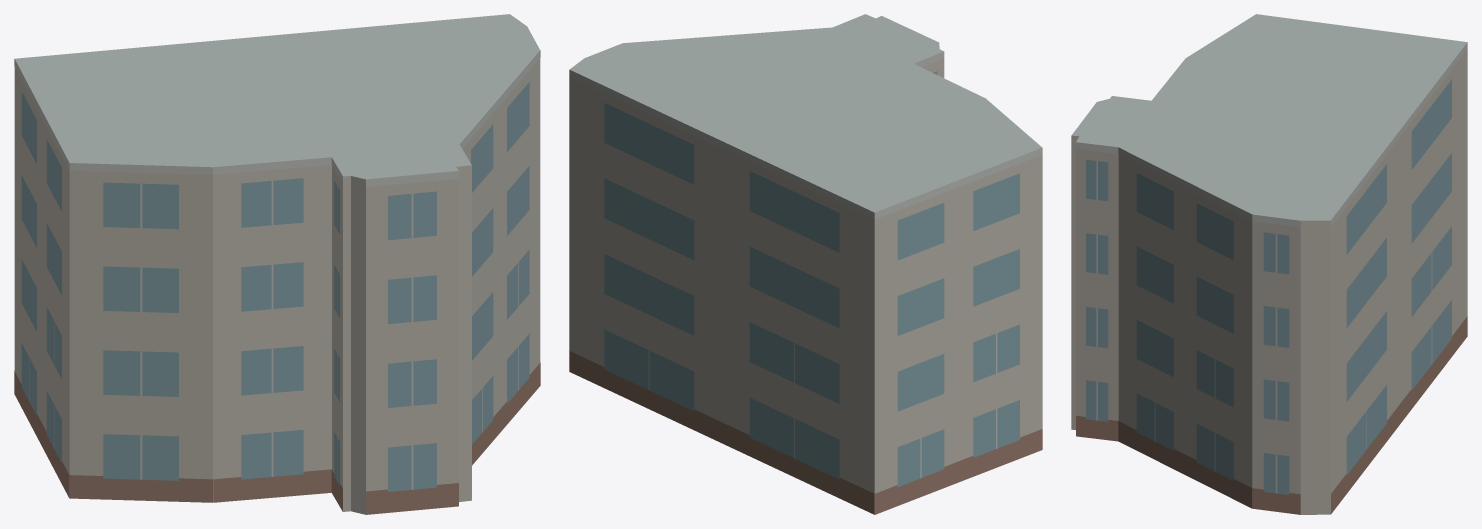
Rendered from survey-upis-32965191.glb.
3 views of the same model, side by side, from view 1: azimuth 30°, elevation 25°; view 2: azimuth 150°, elevation 25°; view 3: azimuth 270°, elevation 25° (orthographic). The views are drawn at different scales.
Parts seen in each view (by area): view 1: survey-upis-32965191.tmp; view 2: survey-upis-32965191.tmp; view 3: survey-upis-32965191.tmp.
Boxes of the visible parts, bbox=[...] form: survey-upis-32965191.tmp: bbox=[14, 14, 540, 514]; survey-upis-32965191.tmp: bbox=[569, 14, 1042, 514]; survey-upis-32965191.tmp: bbox=[1071, 14, 1467, 514].
Size of the model in its own units: 15.84 by 10.5 by 12.83.
